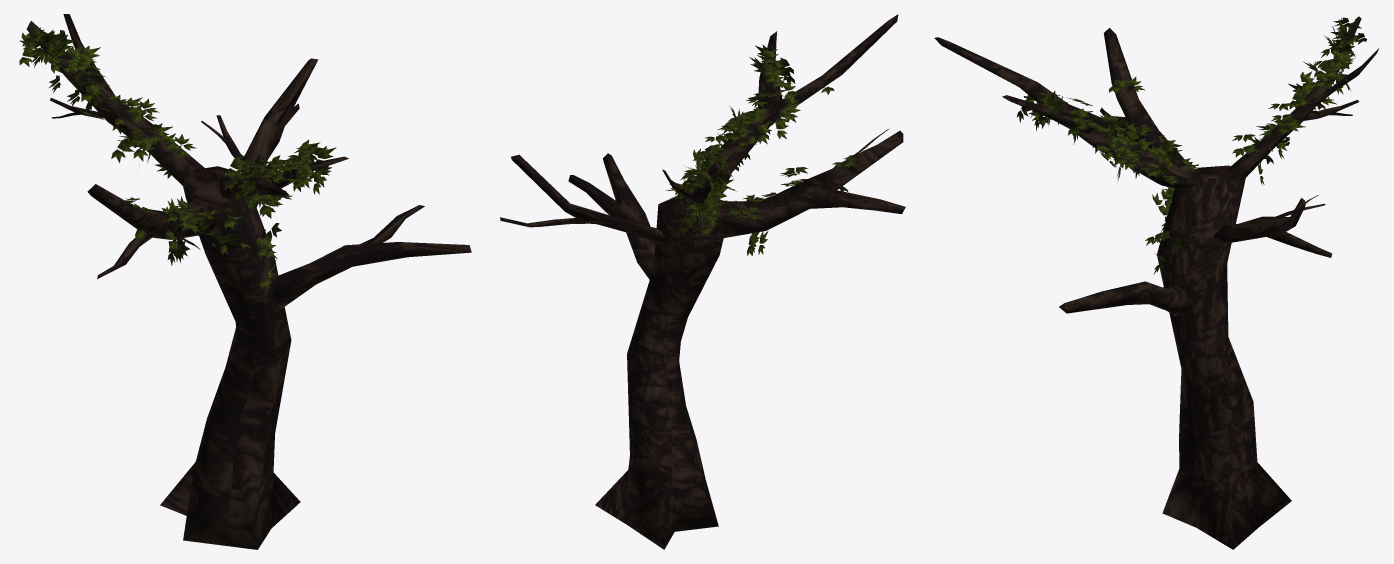
Rendered from MiddleTree_02.fbx.
3 renders of one model, left to right at view 1: azimuth 30°, elevation 25°; view 2: azimuth 150°, elevation 25°; view 3: azimuth 270°, elevation 25°, orthographic. The views are drawn at different scales.
Visible parts, largest first — view 1: Cylinder.002, IvyLeaf.001; view 2: Cylinder.002, IvyLeaf.001; view 3: Cylinder.002, IvyLeaf.001.
Part boxes in pixels (left/top/right/bottom): Cylinder.002: left=26, top=14, right=471, bottom=549; IvyLeaf.001: left=19, top=27, right=336, bottom=289; Cylinder.002: left=500, top=14, right=905, bottom=549; IvyLeaf.001: left=665, top=45, right=857, bottom=255; Cylinder.002: left=934, top=16, right=1379, bottom=549; IvyLeaf.001: left=1017, top=17, right=1366, bottom=274.
Bounding box in the file's own units: 308 × 395 × 360.
